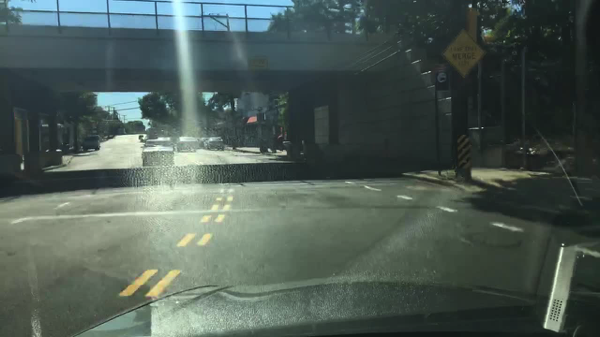car: (176, 136, 199, 153), (83, 134, 101, 151), (206, 137, 224, 152), (199, 137, 208, 149), (140, 137, 149, 144), (109, 133, 116, 140), (103, 134, 109, 142), (139, 135, 147, 140), (158, 138, 174, 140)
traffic sign: (443, 30, 486, 77)
